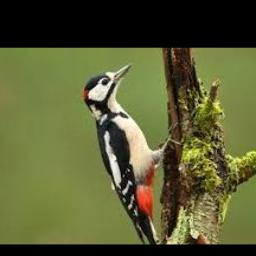Woodpecker: (84, 62, 184, 244)
